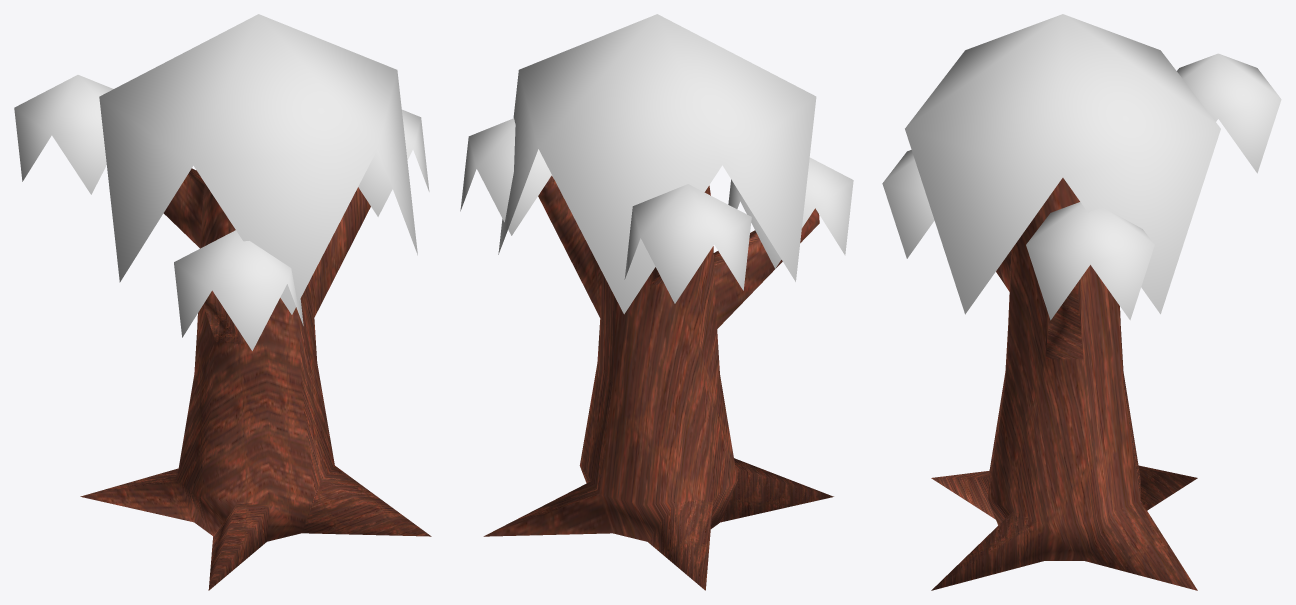
File: tree.glb
3 renders of one model, left to right at view 1: azimuth 30°, elevation 25°; view 2: azimuth 150°, elevation 25°; view 3: azimuth 270°, elevation 25°, orthographic. The views are drawn at different scales.
Visible parts, largest first — view 1: Icosphere.001, Cube, Icosphere.002, Icosphere, Icosphere.003; view 2: Icosphere.001, Cube, Icosphere, Icosphere.003, Icosphere.002; view 3: Icosphere.001, Cube, Icosphere.003, Icosphere, Icosphere.002.
Boxes of the visible parts, x1=… form: Icosphere.001: x1=99, y1=14, x2=417, y2=314; Cube: x1=80, y1=168, x2=431, y2=590; Icosphere.002: x1=174, y1=230, x2=303, y2=350; Icosphere: x1=14, y1=75, x2=113, y2=194; Icosphere.003: x1=358, y1=109, x2=429, y2=216; Icosphere.001: x1=498, y1=14, x2=816, y2=314; Cube: x1=483, y1=175, x2=833, y2=590; Icosphere: x1=624, y1=184, x2=751, y2=303; Icosphere.003: x1=460, y1=118, x2=553, y2=235; Icosphere.002: x1=728, y1=157, x2=853, y2=268; Icosphere.001: x1=905, y1=14, x2=1220, y2=314; Cube: x1=931, y1=178, x2=1197, y2=590; Icosphere.003: x1=1026, y1=202, x2=1154, y2=320; Icosphere: x1=1177, y1=53, x2=1281, y2=173; Icosphere.002: x1=882, y1=150, x2=934, y2=258.
Bounding box in the file's own units: 10.29 × 14.67 × 10.17.
1 material, 1 textured.
